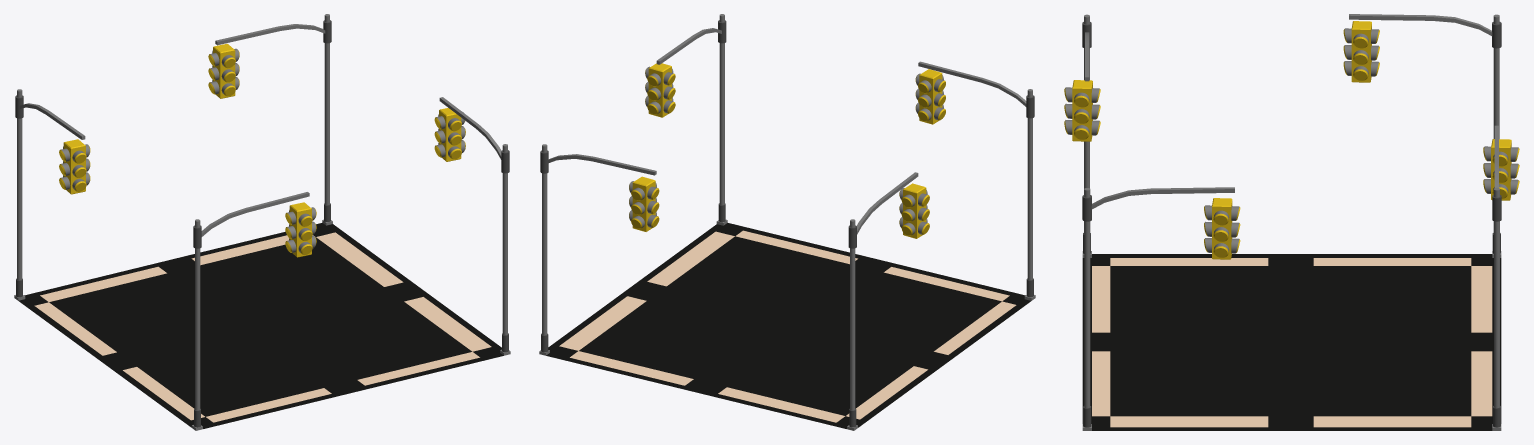
The model's file is Road_FourwayStop_Lights.fbx.
3 views of the same model, side by side, from view 1: azimuth 30°, elevation 25°; view 2: azimuth 150°, elevation 25°; view 3: azimuth 270°, elevation 25° (orthographic). The views are drawn at different scales.
Parts seen in each view (by area): view 1: Fourway_Stoplight; view 2: Fourway_Stoplight; view 3: Fourway_Stoplight.
Boxes of the visible parts, box(x1,y1,x2,y2) form: Fourway_Stoplight: box(14, 14, 510, 430); Fourway_Stoplight: box(539, 14, 1035, 430); Fourway_Stoplight: box(1064, 14, 1519, 430).
Size of the model in its own units: 6.52 by 3.81 by 6.52.
